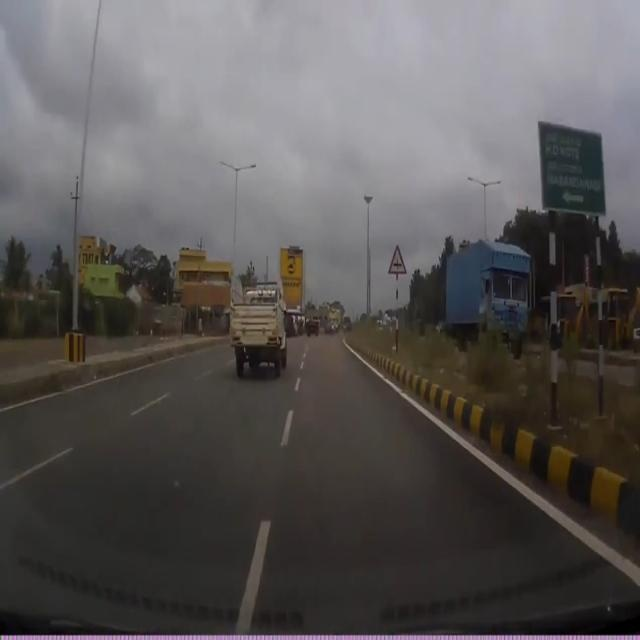bien_nguy_hiem: (388, 243, 407, 276)
